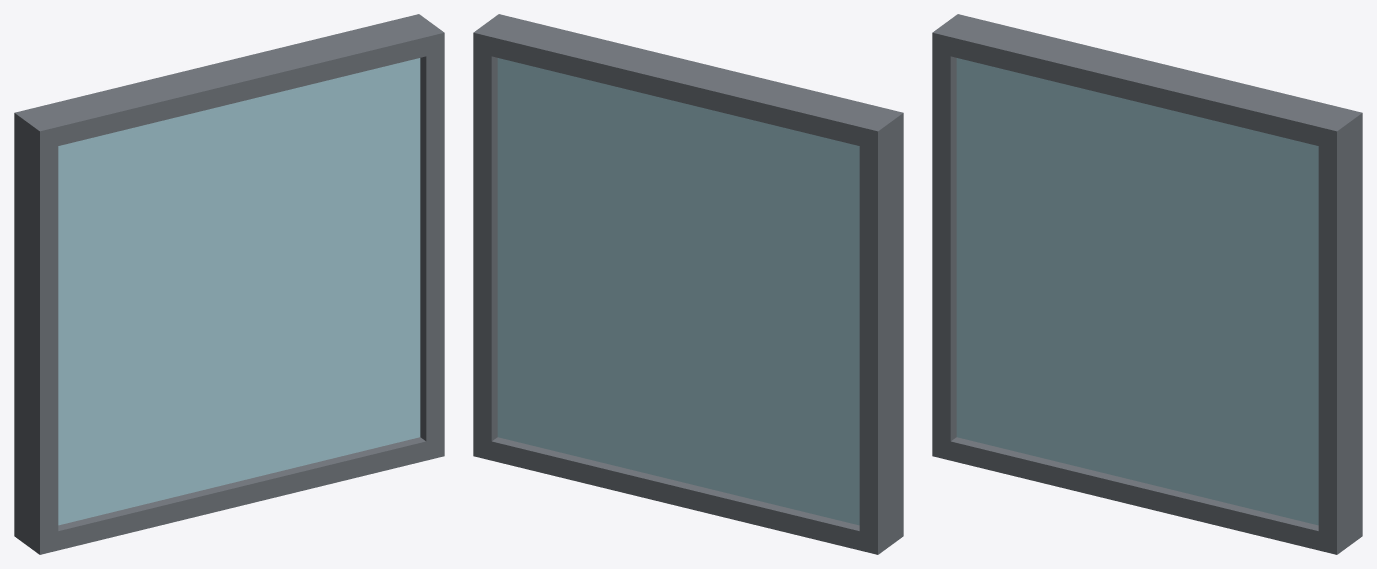
The model's file is Window_LP.fbx.
The picture shows the model from 3 angles, left to right: view 1: azimuth 30°, elevation 25°; view 2: azimuth 150°, elevation 25°; view 3: azimuth 330°, elevation 25°; orthographic projection.
Visible parts, largest first — view 1: WindowLP; view 2: WindowLP; view 3: WindowLP.
Part boxes in pixels (left/top/right/bottom): WindowLP: left=14, top=14, right=444, bottom=554; WindowLP: left=473, top=14, right=903, bottom=554; WindowLP: left=932, top=14, right=1362, bottom=554.
Size of the model in its own units: 1100 by 120 by 1100.
